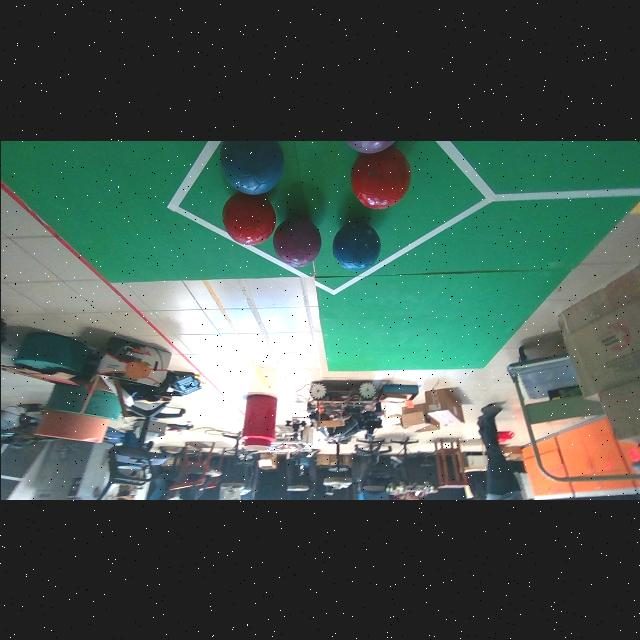B: (220, 140, 283, 194), (332, 221, 380, 271)
P: (272, 217, 320, 267)
R: (351, 147, 409, 209), (221, 192, 274, 243)
